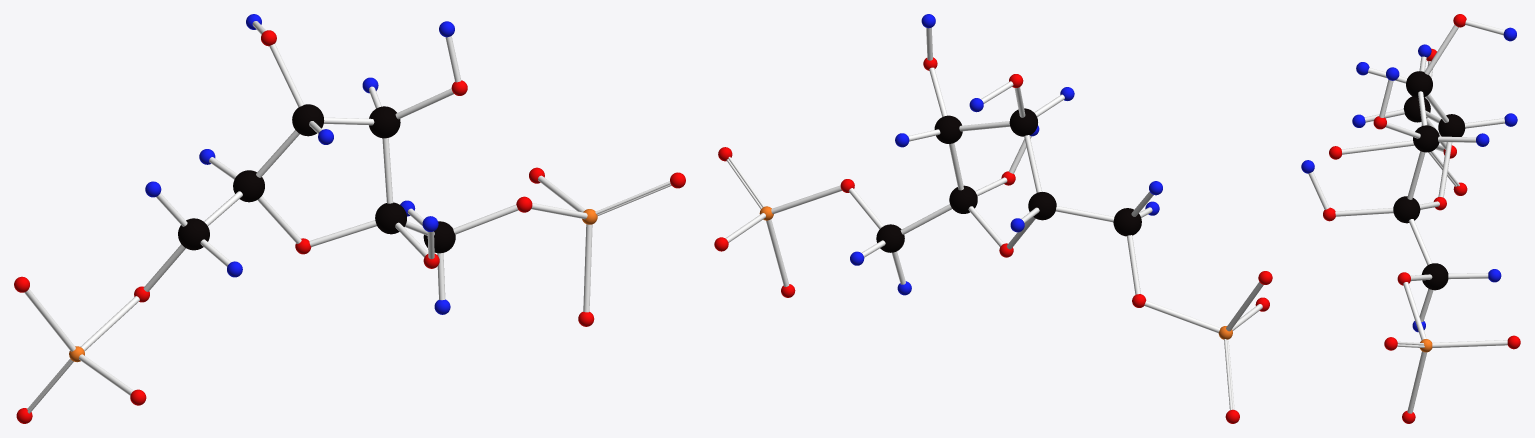
The model's file is fructose 1,6-bisphosphate_color.fbx.
3 renders of one model, left to right at view 1: azimuth 30°, elevation 25°; view 2: azimuth 150°, elevation 25°; view 3: azimuth 270°, elevation 25°, orthographic. The views are drawn at different scales.
Visible parts, largest first — view 1: Atom6_Clone___1_, Atom6_Clone_, Atom6_Clone___5_, Atom6_Clone___3_, Atom6_Clone___2_, Bond1_Clone___1_; view 2: Atom6_Clone___5_, Atom6_Clone___4_, Atom6_Clone___1_, Atom6_Clone_, Atom6_Clone___3_, Atom6_Clone___2_; view 3: Atom6_Clone_, Atom6_Clone___2_, Atom6_Clone___1_, Atom6_Clone___4_, Atom6_Clone___3_, Bond1_Clone___2_, Atom6_Clone___5_, Bond1_Clone___4_, Bond1_Clone___1_, Bond1_Clone_, Bond1_Clone___8_, Bond1_Clone___12_ (+10 smaller).
Boxes of the visible parts, <box> form: Atom6_Clone___1_: <box>369,106,400,138</box>; Atom6_Clone_: <box>375,202,406,234</box>; Atom6_Clone___5_: <box>178,218,209,250</box>; Atom6_Clone___3_: <box>233,170,264,202</box>; Atom6_Clone___2_: <box>292,104,324,136</box>; Bond1_Clone___1_: <box>583,224,592,312</box>; Atom6_Clone___5_: <box>1113,208,1141,236</box>; Atom6_Clone___4_: <box>876,224,904,252</box>; Atom6_Clone___1_: <box>934,115,962,143</box>; Atom6_Clone_: <box>949,185,977,213</box>; Atom6_Clone___3_: <box>1028,192,1056,220</box>; Atom6_Clone___2_: <box>1009,108,1037,136</box>; Atom6_Clone_: <box>1393,196,1420,223</box>; Atom6_Clone___2_: <box>1406,71,1432,97</box>; Atom6_Clone___1_: <box>1413,125,1439,152</box>; Atom6_Clone___4_: <box>1421,263,1448,290</box>; Atom6_Clone___3_: <box>1438,114,1465,136</box>; Bond1_Clone___2_: <box>1432,340,1507,347</box>; Atom6_Clone___5_: <box>1403,96,1430,122</box>; Bond1_Clone___4_: <box>1341,140,1414,154</box>; Bond1_Clone___1_: <box>1407,351,1426,413</box>; Bond1_Clone_: <box>1403,282,1426,340</box>; Bond1_Clone___8_: <box>1335,208,1393,216</box>; Bond1_Clone___12_: <box>1424,25,1458,74</box>.
Bounding box in the file's own units: 1161 × 597 × 404.
